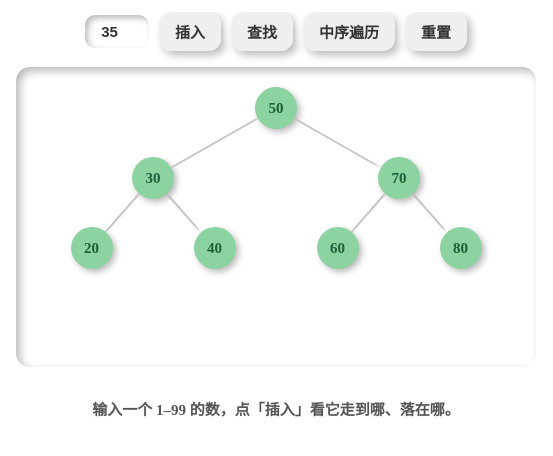
TreeViz › TC-VIZ-TREEVIZ-06 中序遍历解说含升序序列
Click the button "中序遍历": (349, 32) [303, 12, 395, 51]
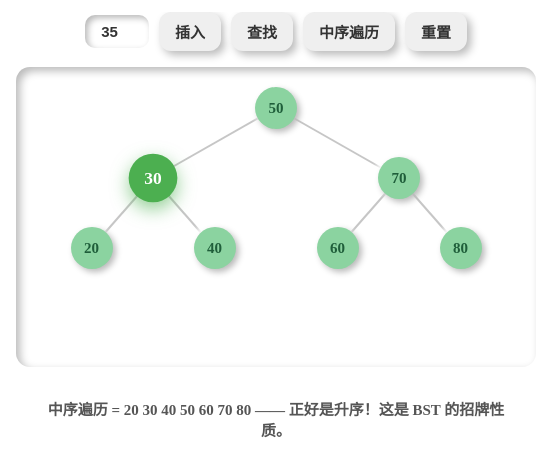
expect the message with class "status" shows "20 30 40 50 60 70 80": met, box [48, 402, 504, 439]
